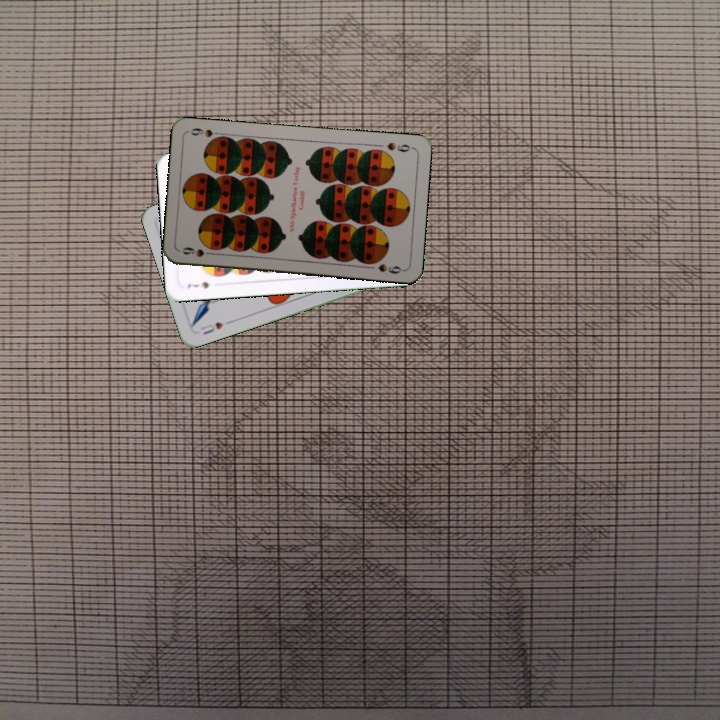HU: (197, 317, 233, 337)
S7: (183, 278, 212, 291)
S9: (178, 243, 218, 259), (382, 139, 415, 155)
